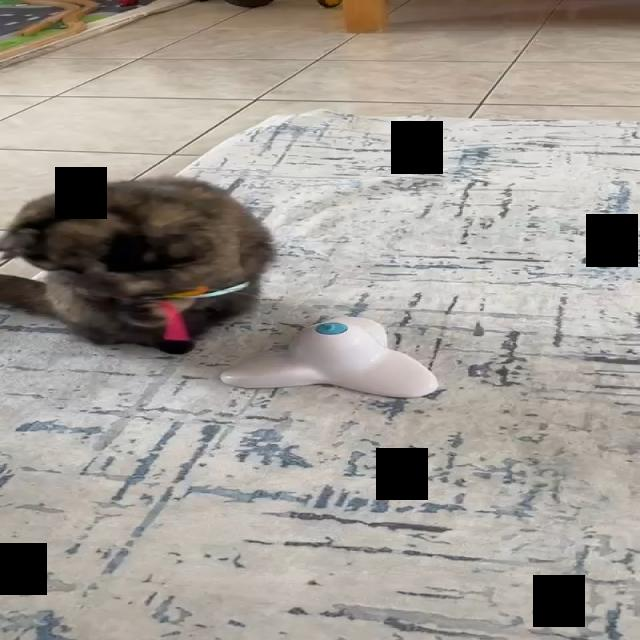authorized: (0, 175, 275, 354)
